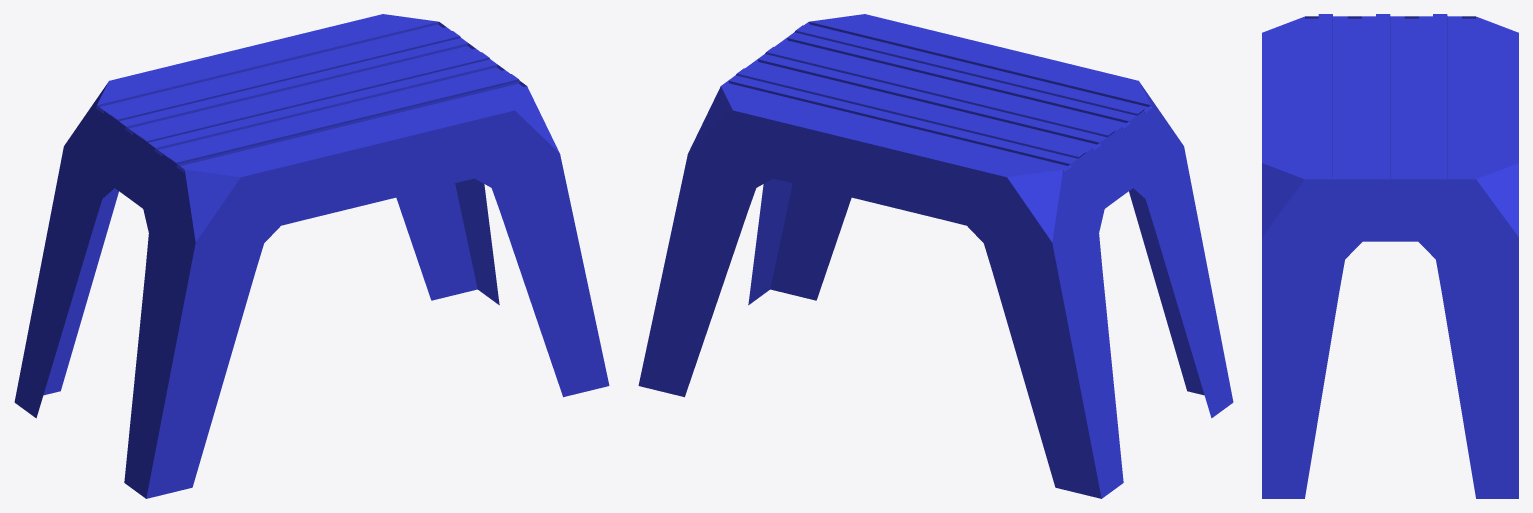
File: plastic_table.glb
The picture shows the model from 3 angles, left to right: view 1: azimuth 30°, elevation 25°; view 2: azimuth 150°, elevation 25°; view 3: azimuth 270°, elevation 25°; orthographic projection. The views are drawn at different scales.
Visible parts, largest first — view 1: Cube; view 2: Cube; view 3: Cube.
Part boxes in pixels (<box>): Cube: <box>14,14,609,498</box>; Cube: <box>638,14,1233,498</box>; Cube: <box>1262,14,1518,498</box>.
Bounding box in the file's own units: 0.8117 × 0.5033 × 0.4.
